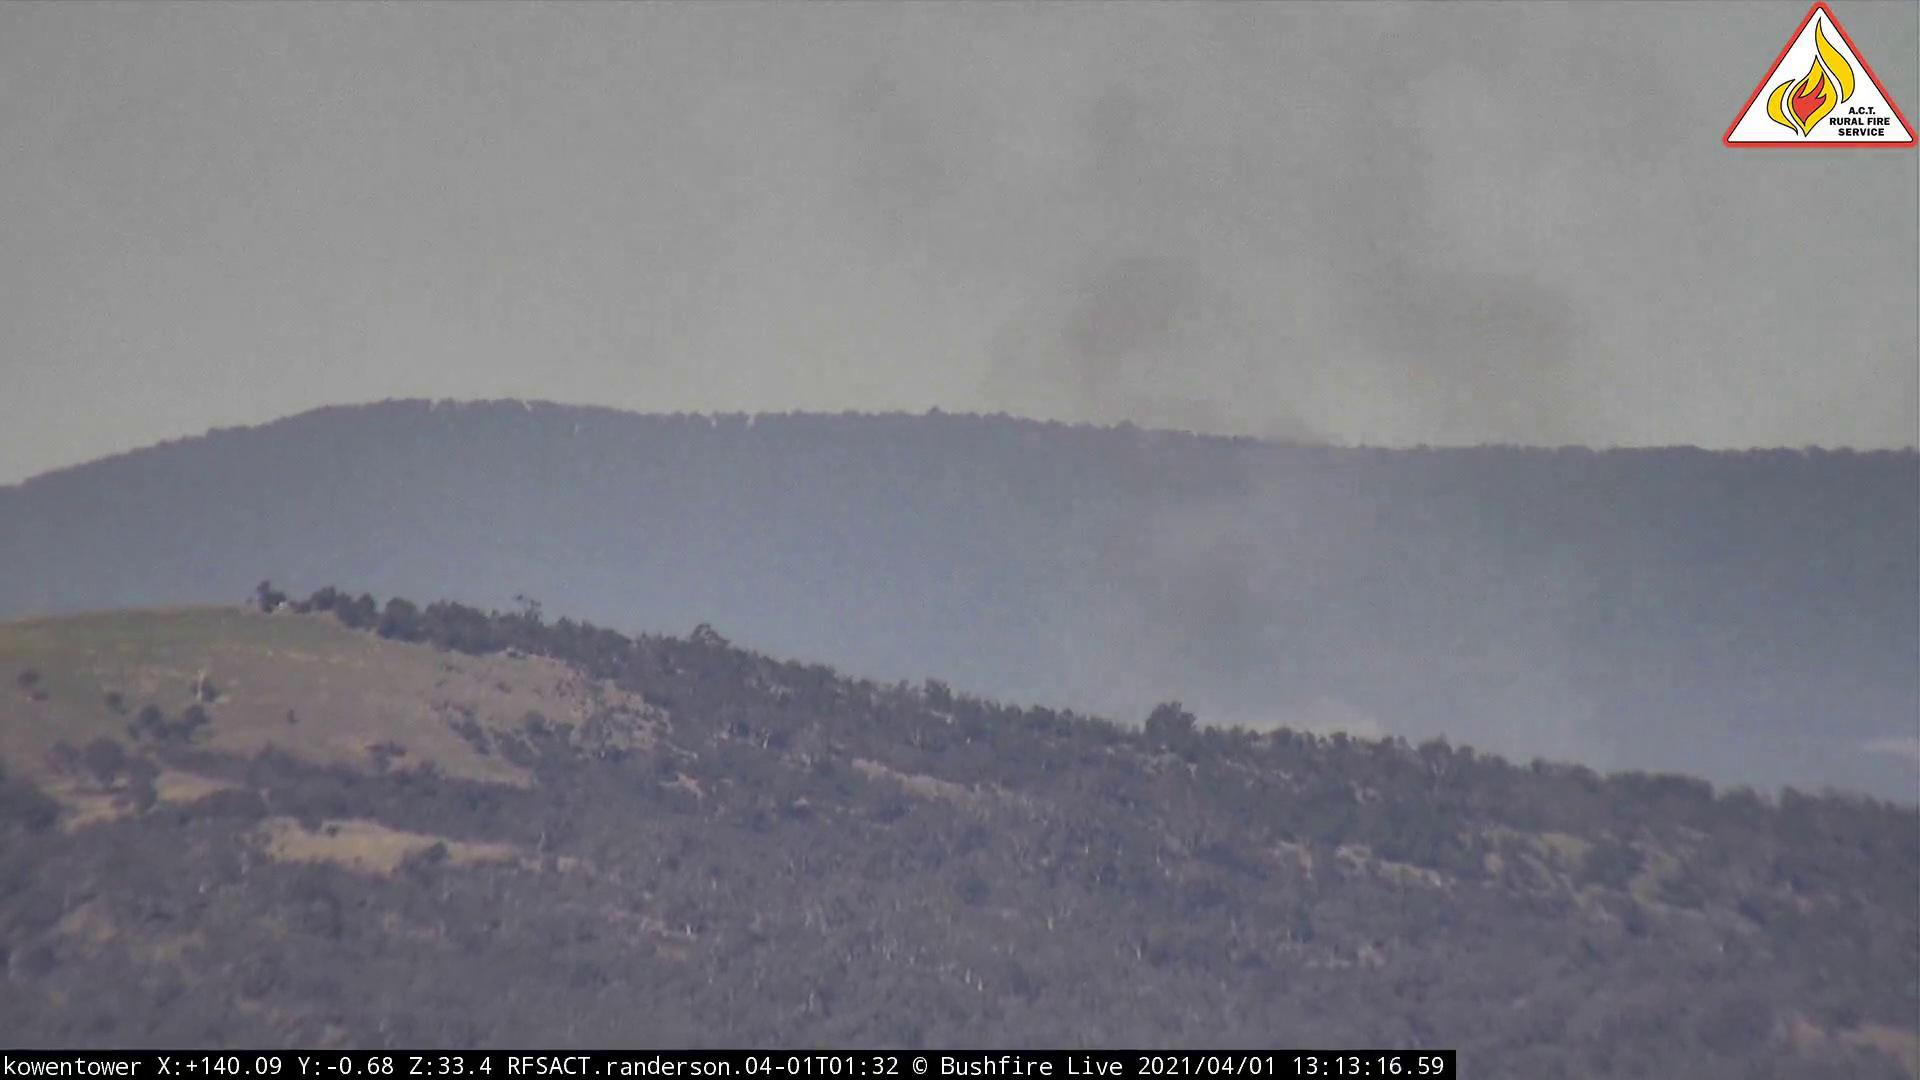instance_salient_object: (765, 3, 1710, 853)
